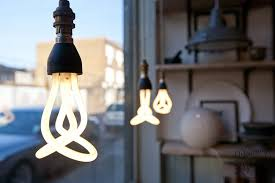bulb: (27, 49, 104, 171), (127, 74, 161, 139), (149, 83, 176, 122)
